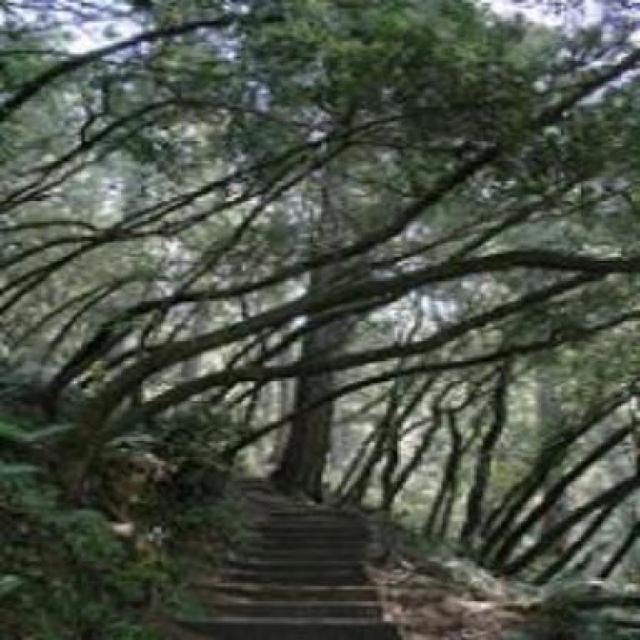stair: (186, 498, 409, 640)
